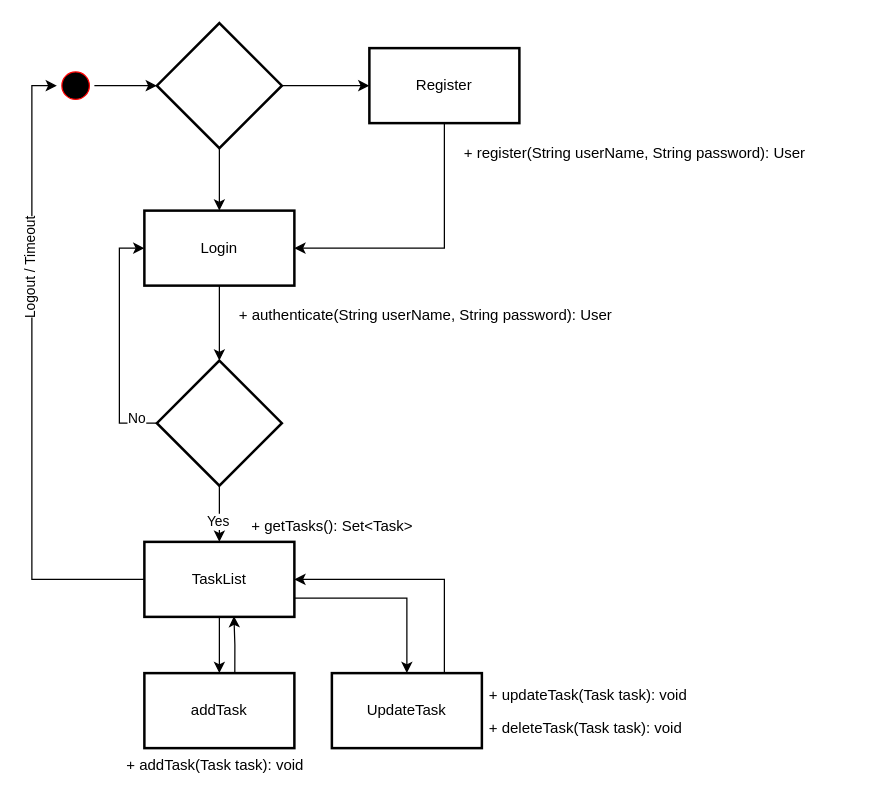
The diagram is 878 pixels wide and 805 high, and some of its shapes have lost their labels. The box of each missing label's shape, as (x1, y1, x2, y2) in pixels:
Landing: (155, 21, 282, 149)
Successful: (155, 359, 282, 486)
